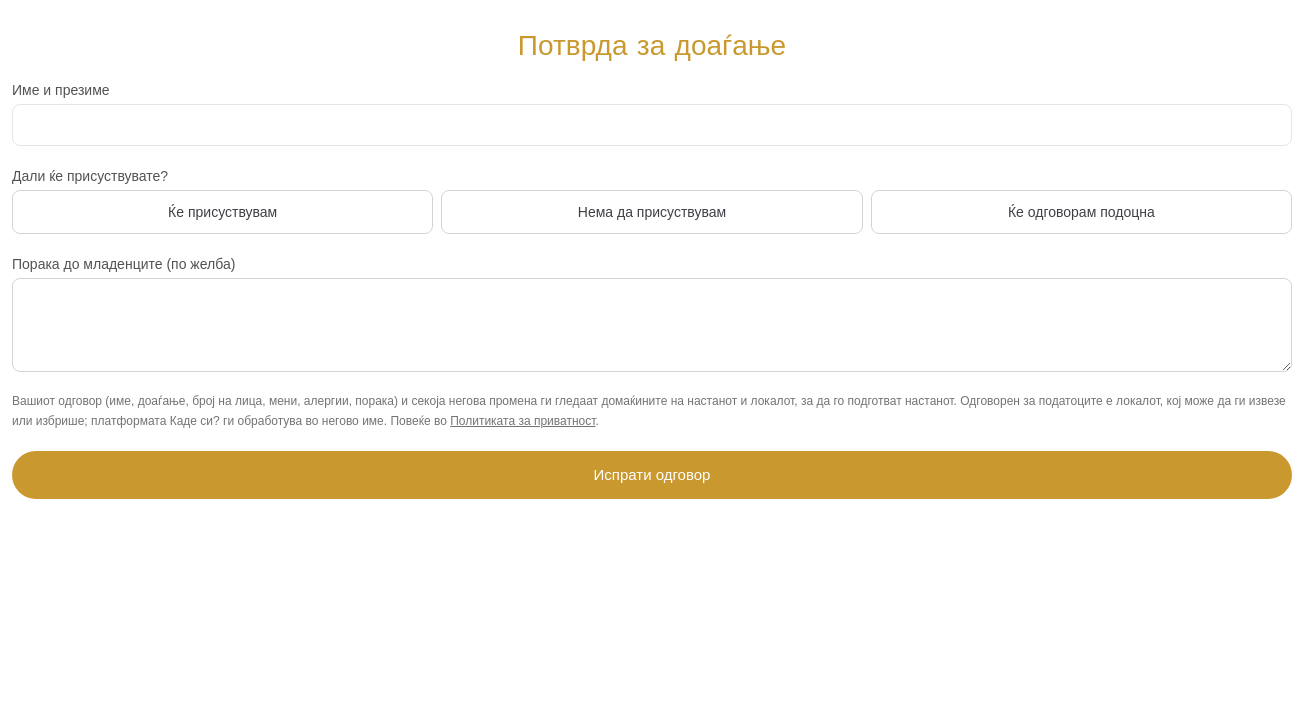
it: RsvpForm (A2-A5, A18) › shows the server error message when the request fails
Type "Некој" into the field labelled "Име и презиме" at [652, 125], box [12,104,1292,146]
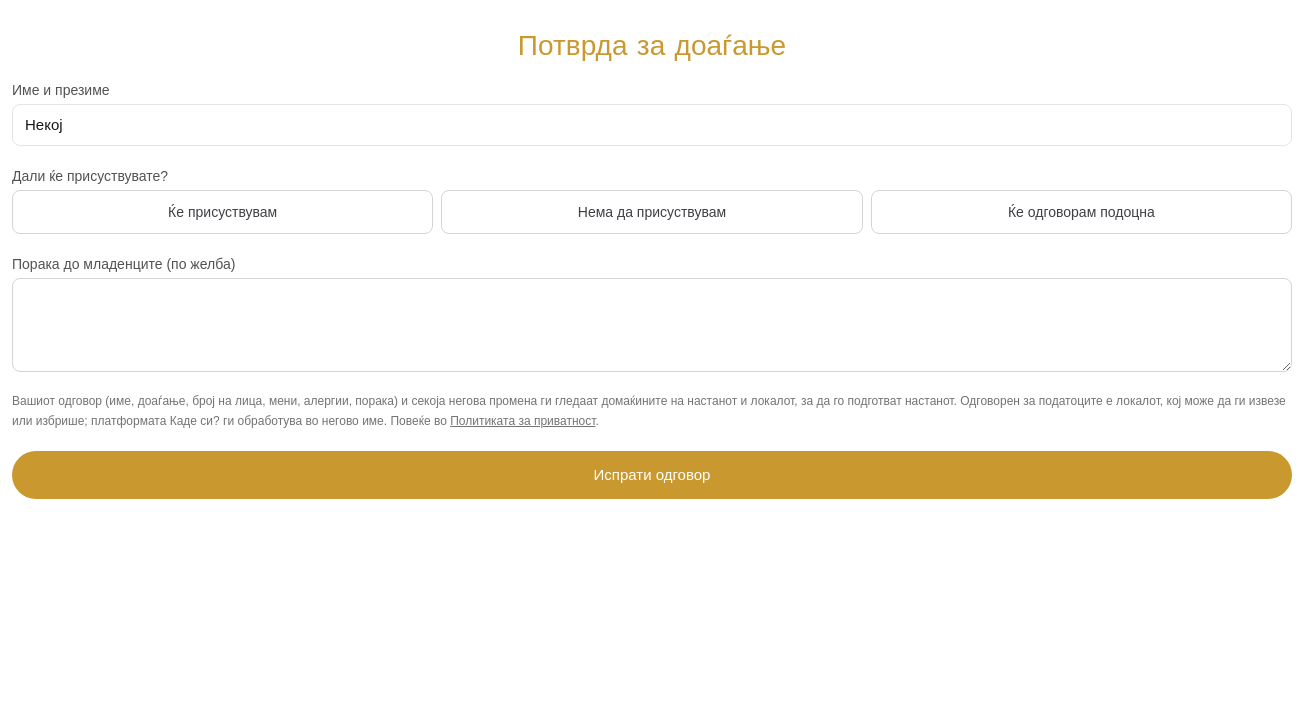
Click the button "Ќе присуствувам" at [223, 212], box [12,190,433,234]
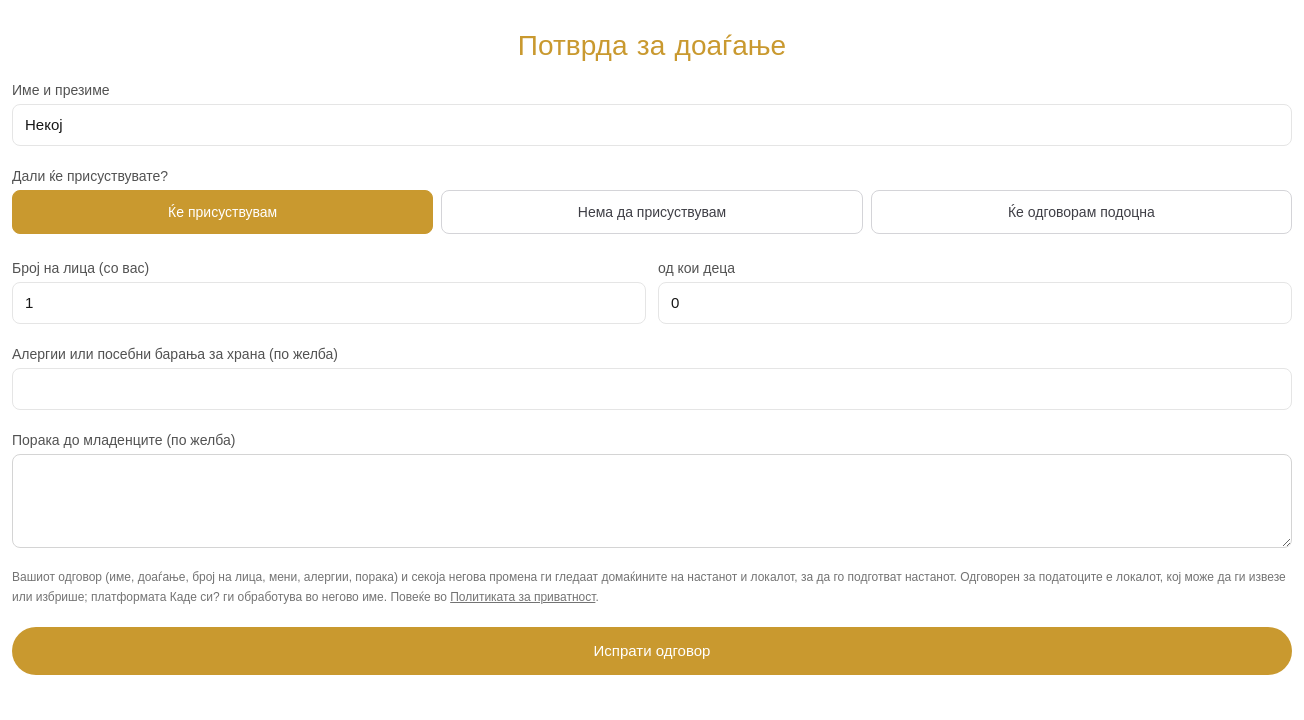
Click the button "Испрати одговор" at [652, 651], box [12,627,1292,675]
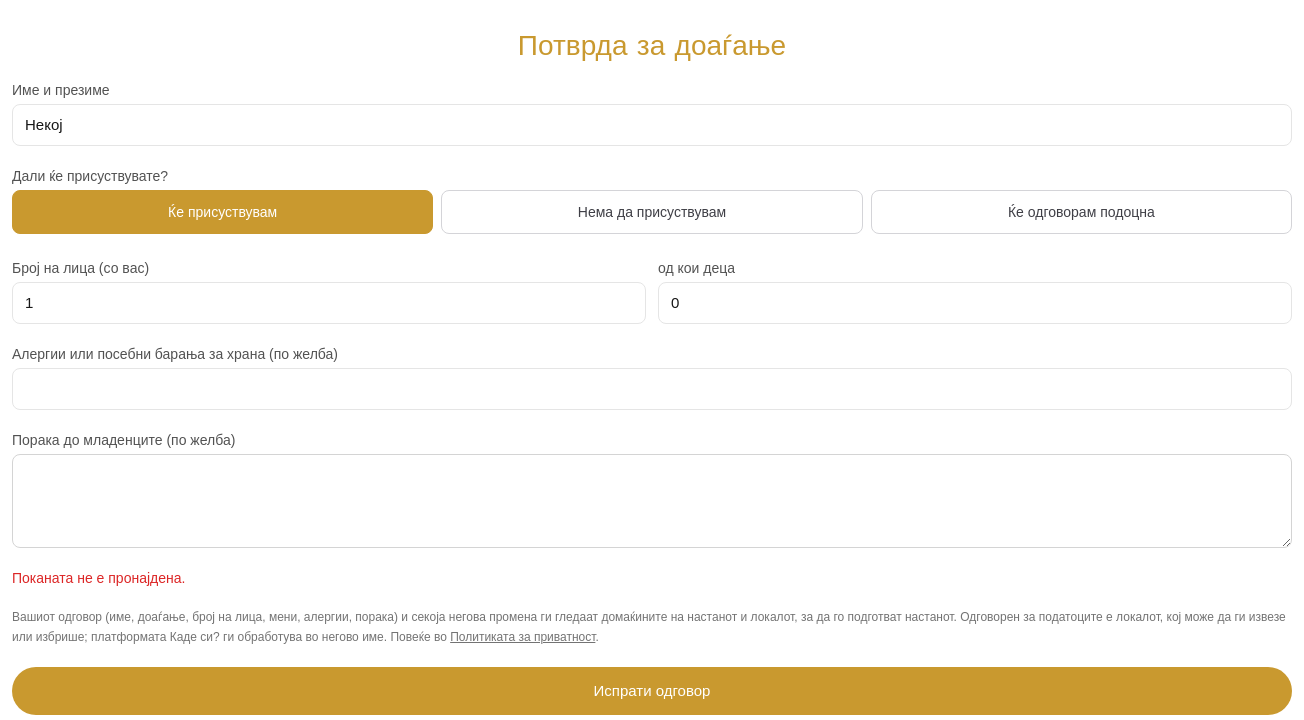
Check: the text "Поканата не е пронајдена." is shown, box [12,570,185,586]
